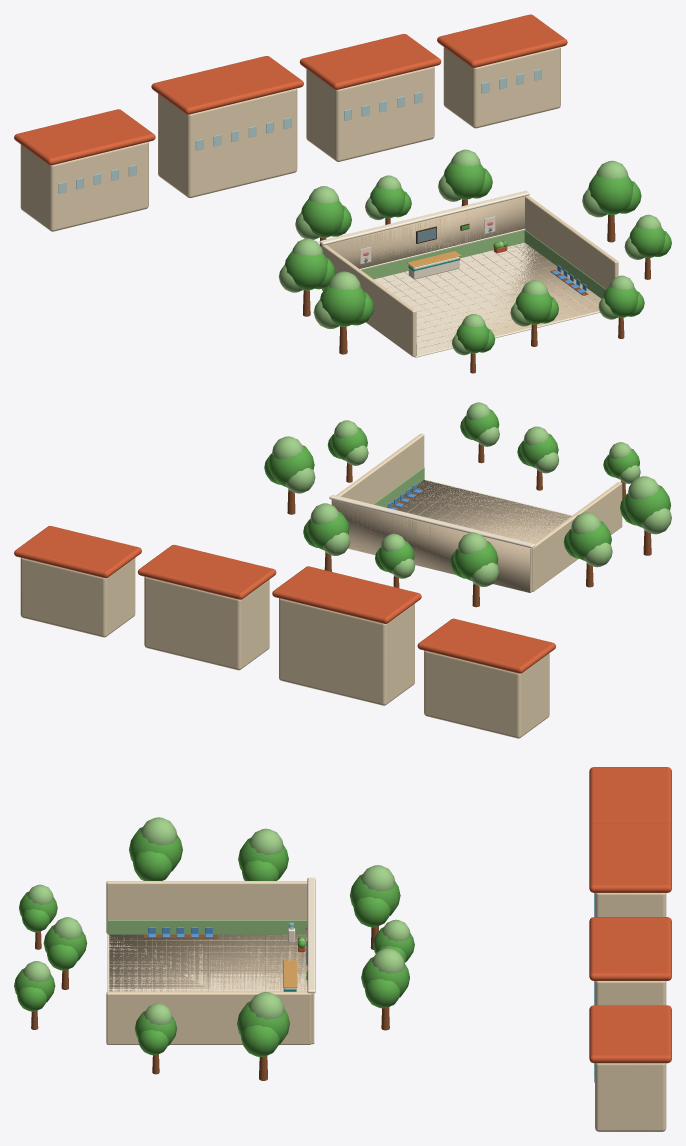
The model's file is iium_clinic.glb.
The picture shows the model from 3 angles, top to bottom: view 1: azimuth 30°, elevation 25°; view 2: azimuth 150°, elevation 25°; view 3: azimuth 270°, elevation 25°; orthographic projection. The views are drawn at different scales.
Visible parts, largest first — view 1: Block1.008, Block2.008, Floor.005, Block0.008, Block3.007, WallBack-colonly.005, Block1Roof.008, Block0Roof.008, Block2Roof.008, Block3Roof.007, Floor-colonly.005, WallSide1 (+16 smaller); view 2: Block1.008, Block2.008, Block0.008, Block3.007, WallBack-colonly.005, Floor-colonly.005, Block1Roof.008, Block0Roof.008, Block2Roof.008, Block3Roof.007, WallSide-1, WallSide1 (+18 smaller); view 3: Floor-colonly.005, WallSide-1, WallSide1, Block1Roof.008, Block2Roof.008, Block3.007, Block3Roof.007, Block0Roof.008, Floor.005, WallSideWain-1, Block2.008, Block1.008 (+22 smaller).
Part boxes in pixels (bbox=[...]): Block1.008: bbox=[158, 88, 297, 197]; Block2.008: bbox=[306, 66, 434, 161]; Floor.005: bbox=[374, 242, 599, 357]; Block0.008: bbox=[20, 142, 148, 231]; Block3.007: bbox=[443, 47, 560, 128]; WallBack-colonly.005: bbox=[326, 196, 524, 268]; Block1Roof.008: bbox=[151, 56, 303, 114]; Block0Roof.008: bbox=[14, 109, 155, 165]; Block2Roof.008: bbox=[299, 34, 441, 89]; Block3Roof.007: bbox=[437, 14, 567, 67]; Floor-colonly.005: bbox=[430, 243, 601, 347]; WallSide1: bbox=[525, 195, 618, 289]; Block1.008: bbox=[279, 598, 414, 705]; Block2.008: bbox=[144, 577, 269, 670]; Block0.008: bbox=[424, 650, 549, 738]; Block3.007: bbox=[20, 558, 135, 637]; WallBack-colonly.005: bbox=[332, 500, 530, 592]; Floor-colonly.005: bbox=[386, 480, 571, 543]; Block1Roof.008: bbox=[272, 566, 421, 623]; Block0Roof.008: bbox=[417, 618, 555, 673]; Block2Roof.008: bbox=[138, 544, 276, 599]; Block3Roof.007: bbox=[14, 526, 141, 578]; WallSide-1: bbox=[532, 482, 622, 591]; WallSide1: bbox=[336, 433, 424, 504]; Floor-colonly.005: bbox=[109, 934, 307, 991]; WallSide-1: bbox=[106, 881, 307, 933]; WallSide1: bbox=[106, 991, 311, 1044]; Block1Roof.008: bbox=[589, 823, 671, 892]; Block2Roof.008: bbox=[589, 917, 671, 980]; Block3.007: bbox=[595, 1063, 666, 1131]; Block3Roof.007: bbox=[589, 1005, 671, 1063]; Block0Roof.008: bbox=[589, 767, 671, 826]; Floor.005: bbox=[107, 934, 310, 1044]; WallSideWain-1: bbox=[108, 920, 307, 934]; Block2.008: bbox=[595, 981, 666, 1005]; Block1.008: bbox=[595, 893, 666, 916].
Size of what is drawn, in the model's own units: 47.3 by 8.22 by 46.19.
